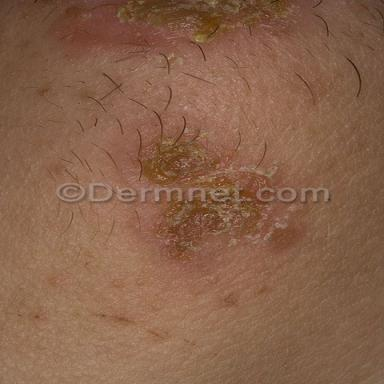Impetigo: (52, 0, 315, 46), (147, 203, 300, 264), (135, 126, 278, 187)
